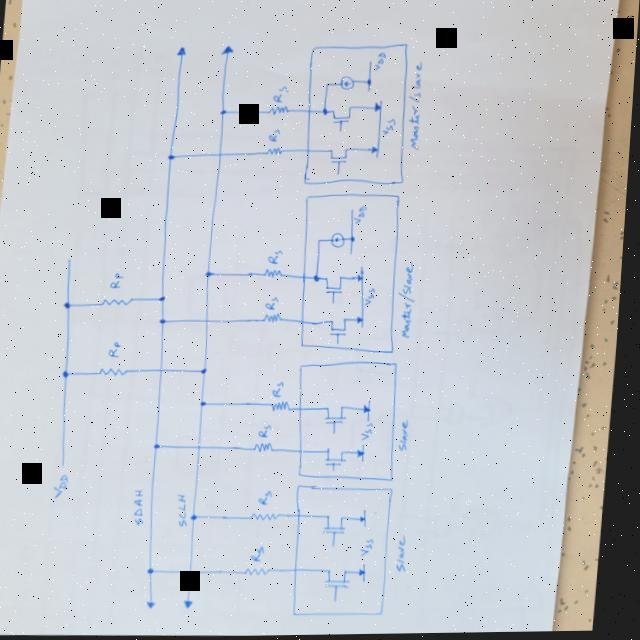crossover: (161, 366, 170, 374), (206, 317, 215, 325), (194, 568, 202, 576), (218, 150, 226, 158), (201, 443, 209, 451)
junction: (65, 368, 76, 379), (65, 300, 76, 310), (167, 152, 178, 162), (152, 566, 163, 575), (161, 317, 172, 326), (160, 294, 171, 303), (206, 270, 216, 279), (157, 442, 167, 451), (204, 367, 213, 376), (321, 108, 330, 116), (203, 400, 211, 408), (220, 108, 228, 116), (315, 274, 323, 282), (196, 513, 204, 521), (366, 78, 373, 87), (353, 236, 359, 243), (319, 238, 325, 244), (325, 82, 331, 88)
resistor: (102, 364, 133, 378), (103, 296, 137, 307), (255, 510, 286, 522), (258, 441, 281, 454), (274, 400, 297, 413), (250, 566, 278, 576), (268, 105, 291, 116), (265, 269, 286, 279), (266, 313, 287, 323), (267, 146, 286, 156)
source: (190, 598, 203, 610), (366, 404, 376, 415), (373, 102, 382, 113), (372, 145, 381, 156), (362, 449, 371, 459), (364, 568, 372, 577), (359, 274, 366, 284), (359, 316, 367, 324), (366, 516, 373, 522)
terminal: (360, 265, 372, 332), (376, 99, 386, 160), (351, 208, 358, 257), (367, 59, 374, 93), (220, 44, 235, 56), (175, 45, 188, 58), (371, 399, 378, 423), (369, 563, 376, 583), (153, 599, 164, 610), (366, 444, 372, 464), (370, 510, 375, 530), (69, 255, 76, 264), (338, 127, 345, 133), (66, 461, 72, 467), (337, 170, 343, 176), (336, 430, 342, 436), (338, 543, 344, 549), (340, 598, 346, 603), (334, 301, 341, 305), (337, 468, 343, 472), (340, 340, 344, 345)
text: (404, 60, 427, 151), (399, 260, 422, 341), (136, 488, 153, 527), (180, 493, 197, 527), (401, 535, 416, 573), (58, 473, 76, 498), (403, 420, 415, 452), (113, 271, 128, 292), (269, 248, 287, 265), (367, 538, 382, 558), (273, 86, 290, 103), (112, 340, 127, 359), (257, 545, 273, 562), (355, 206, 369, 225), (367, 287, 380, 307), (365, 422, 378, 442), (383, 118, 398, 135), (265, 489, 280, 506), (275, 380, 289, 398), (375, 52, 387, 71), (268, 296, 282, 310), (269, 128, 282, 142)
transistor: (331, 568, 359, 590), (329, 513, 354, 537), (329, 448, 354, 468), (329, 406, 353, 426), (331, 316, 352, 338), (327, 274, 348, 296), (331, 105, 354, 125), (329, 147, 351, 166)
